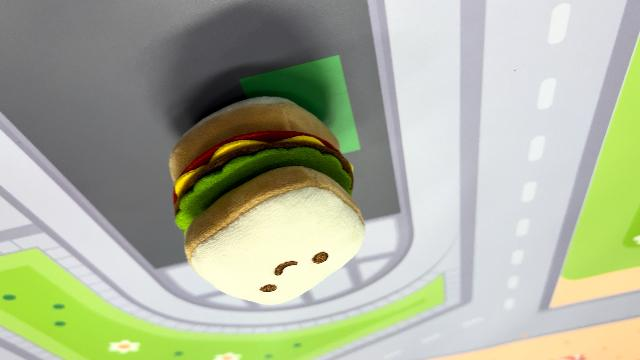sandwich: (165, 93, 368, 306)
